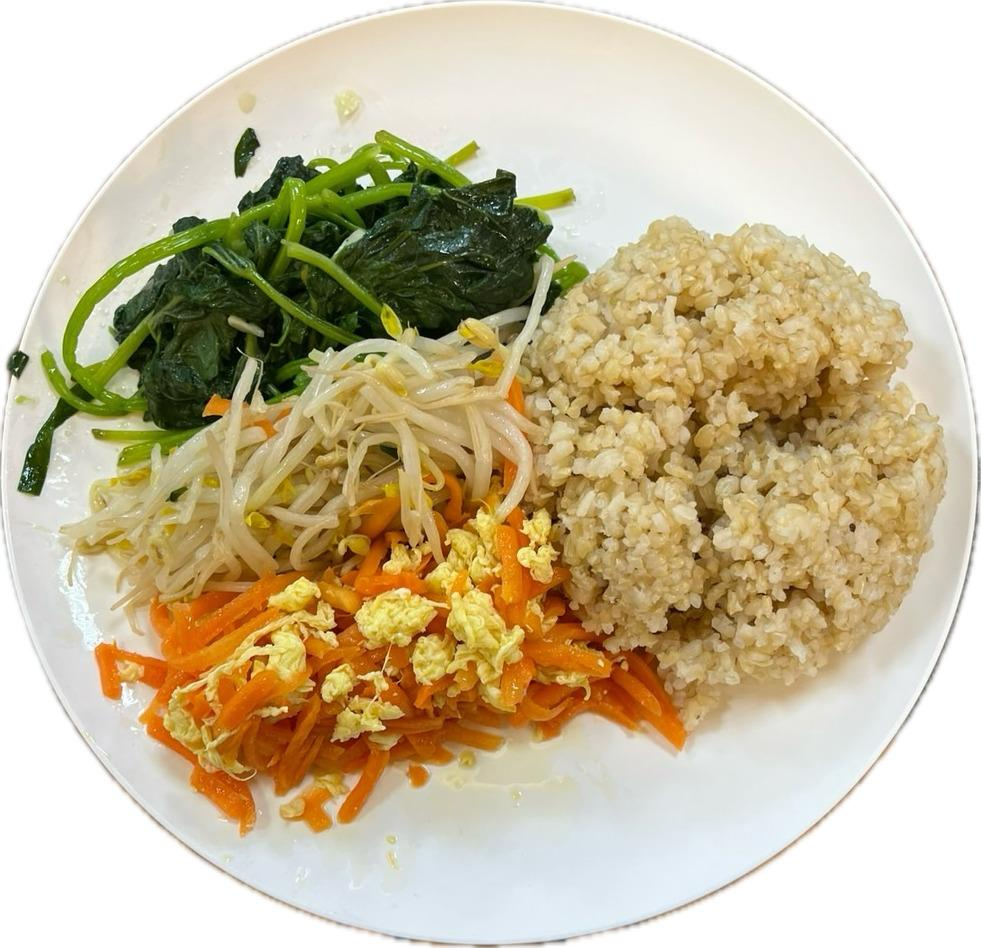big fried chicken leg: (6, 2, 981, 948)
box: (534, 212, 947, 692)
braised fish fillet: (19, 130, 574, 474), (104, 502, 592, 821), (77, 312, 550, 596)
